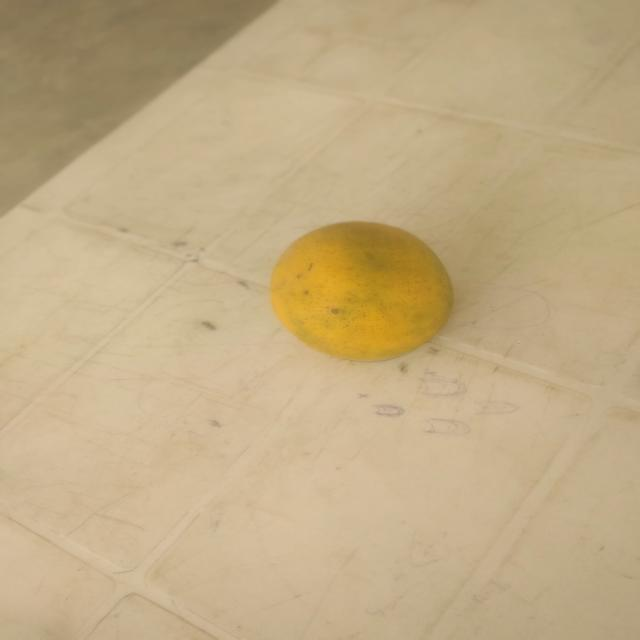Ripe orange: (238, 206, 484, 398)
